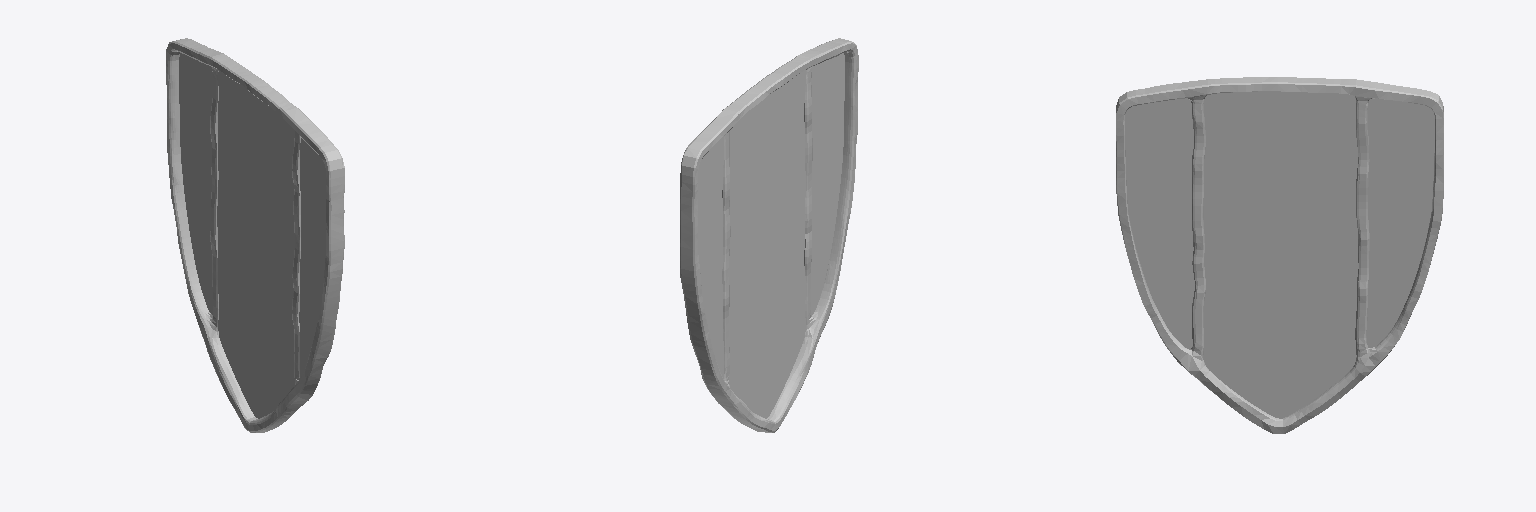
File: shield.obj
3 views of the same model, side by side, from view 1: azimuth 30°, elevation 25°; view 2: azimuth 150°, elevation 25°; view 3: azimuth 270°, elevation 25° (orthographic).
Visible parts, largest first — view 1: Retopo_Point.003; view 2: Retopo_Point.003; view 3: Retopo_Point.003.
Boxes of the visible parts, x1,y1,x2,y2 form: Retopo_Point.003: [166, 38, 344, 432]; Retopo_Point.003: [680, 38, 858, 432]; Retopo_Point.003: [1116, 77, 1443, 433].
Bounding box in the file's own units: 0.1213 × 2.25 × 1.9.